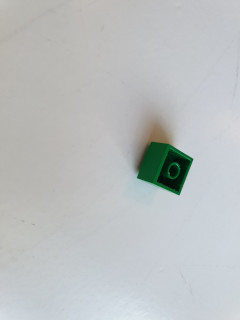2x2 green: (135, 139, 194, 195)
